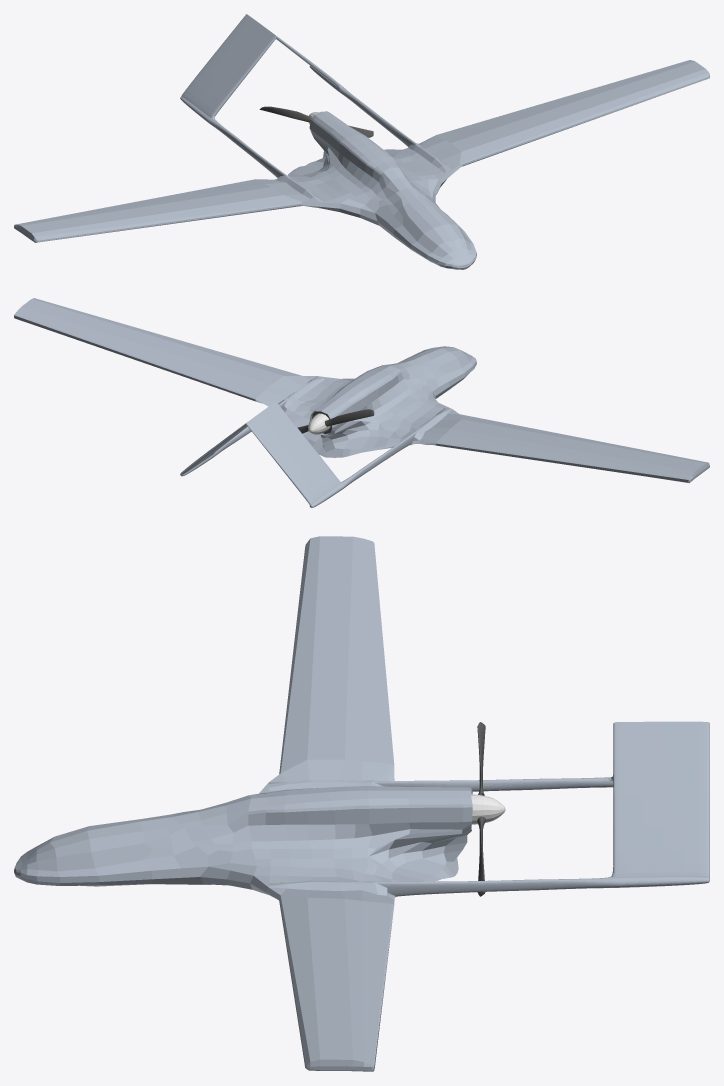
The model's file is uav.gltf.
3 renders of one model, top to bottom at view 1: azimuth 30°, elevation 25°; view 2: azimuth 150°, elevation 25°; view 3: azimuth 270°, elevation 25°, orthographic. The views are drawn at different scales.
Visible parts, largest first — view 1: Куб001, Цилиндр, Окружность001; view 2: Куб001, Цилиндр, Окружность001, Сфера; view 3: Куб001, Цилиндр.
Boxes of the visible parts, box(x1,y1,x2,y2) form: Куб001: box(14, 60, 709, 269); Цилиндр: box(180, 14, 425, 182); Окружность001: box(259, 106, 373, 137); Куб001: box(14, 298, 709, 483); Цилиндр: box(180, 392, 425, 507); Окружность001: box(298, 409, 374, 433); Сфера: box(308, 413, 330, 434); Куб001: box(14, 536, 472, 1071); Цилиндр: box(344, 721, 709, 896).
Bounding box in the file's own units: 4.73 × 0.6571 × 2.65.
